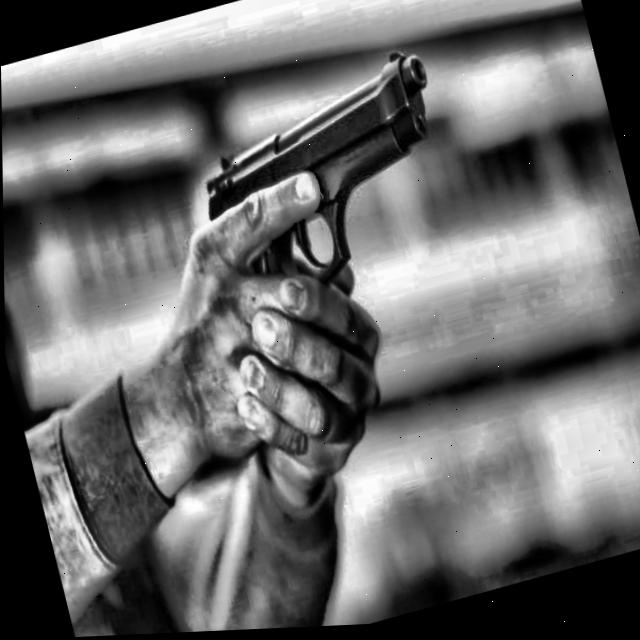pistol: (174, 33, 449, 404)
